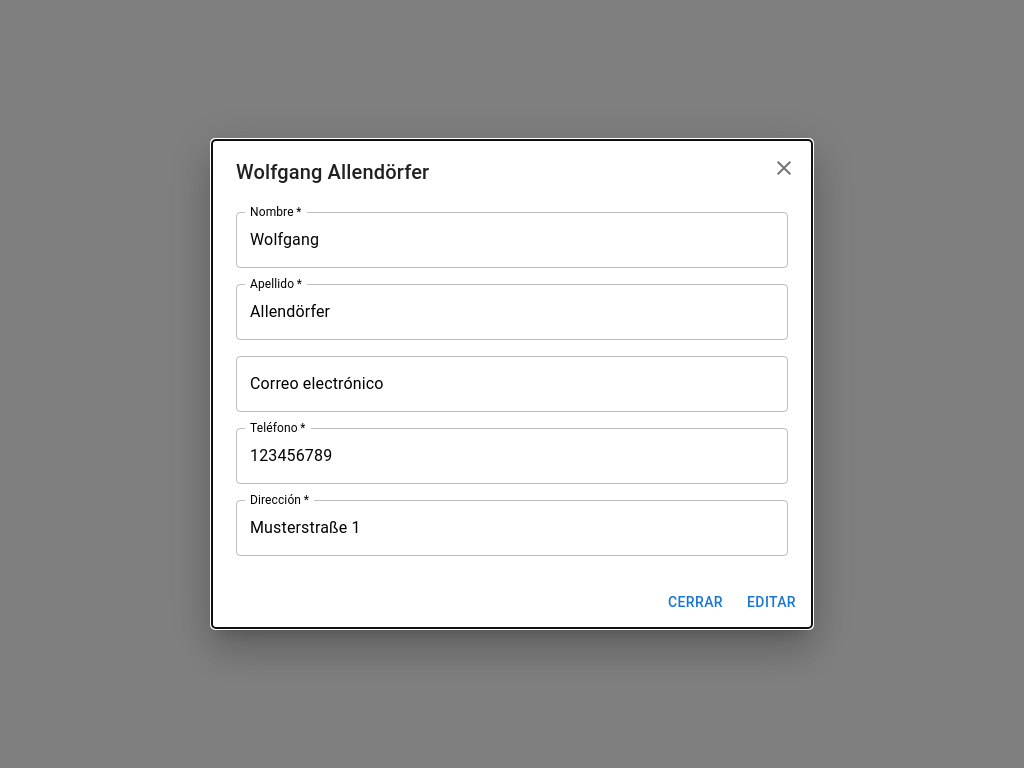
Test: OwnerDetailModal › shows a duplicate-email message when saving Wolfgang's email
Click the button "Editar" at point(772, 602), box x1=739 y1=584 x2=804 y2=620
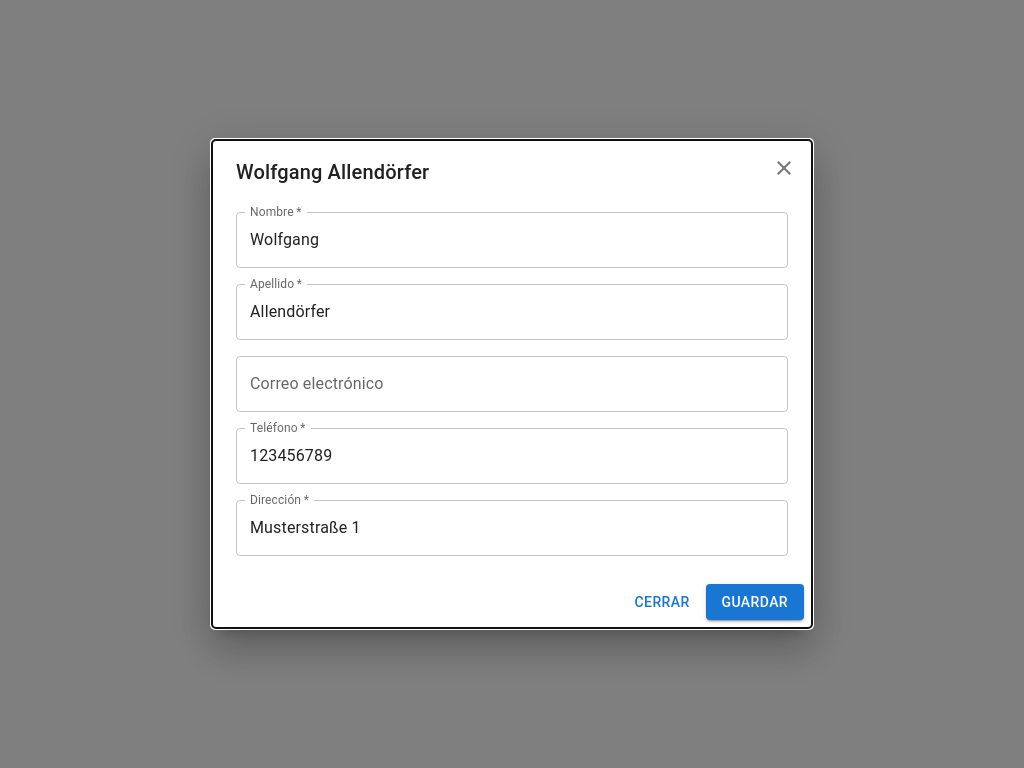
Type "WolfgangAllendoerfer@aol.com" into the field labelled "Correo electrónico" at point(512, 384), box x1=236 y1=356 x2=788 y2=412
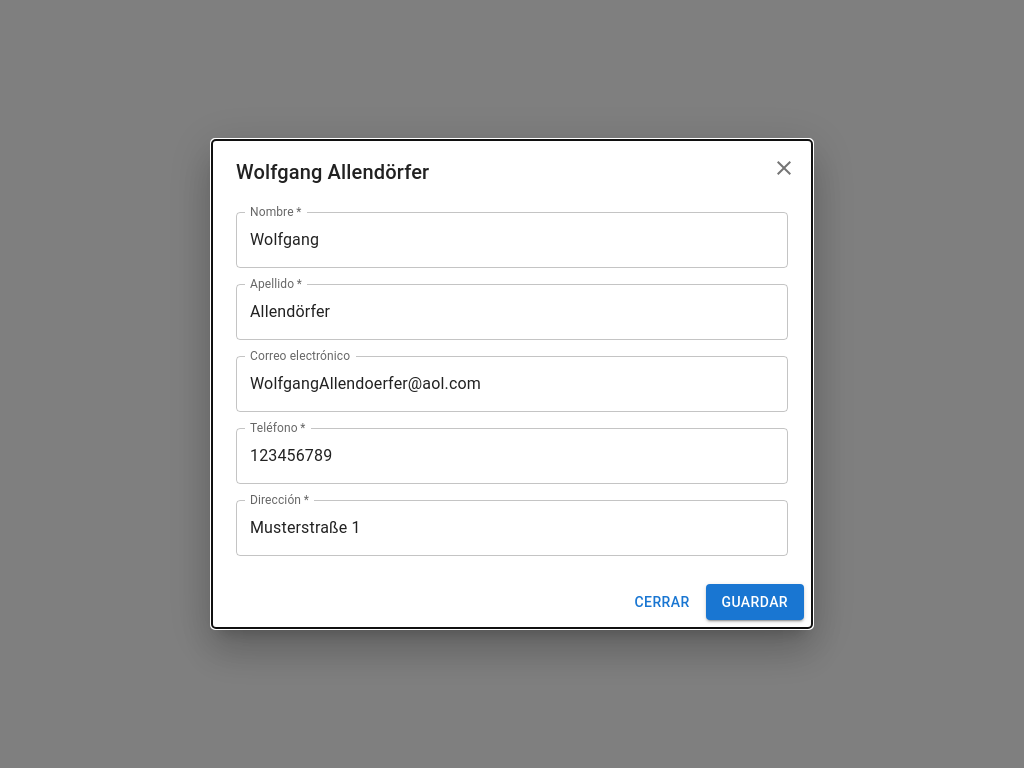
Click the button "Guardar" at point(755, 602), box x1=706 y1=584 x2=804 y2=620
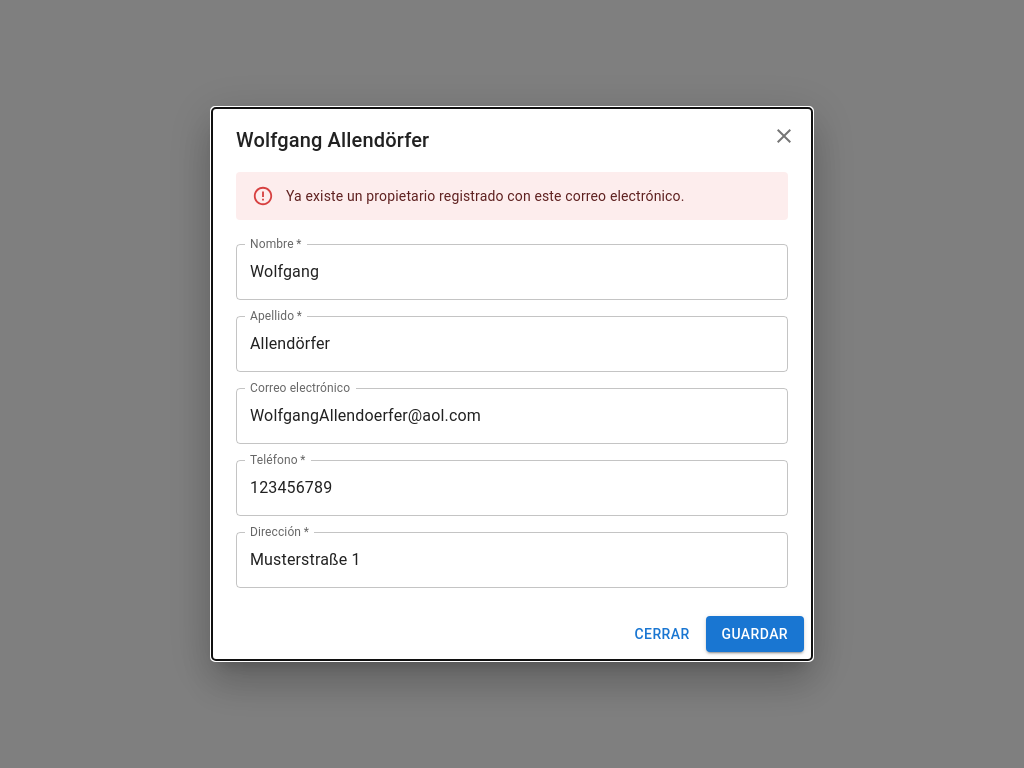
Result: the message reads "Ya existe un propietario registrado con este correo electrónico." at x1=286 y1=188 x2=685 y2=204
